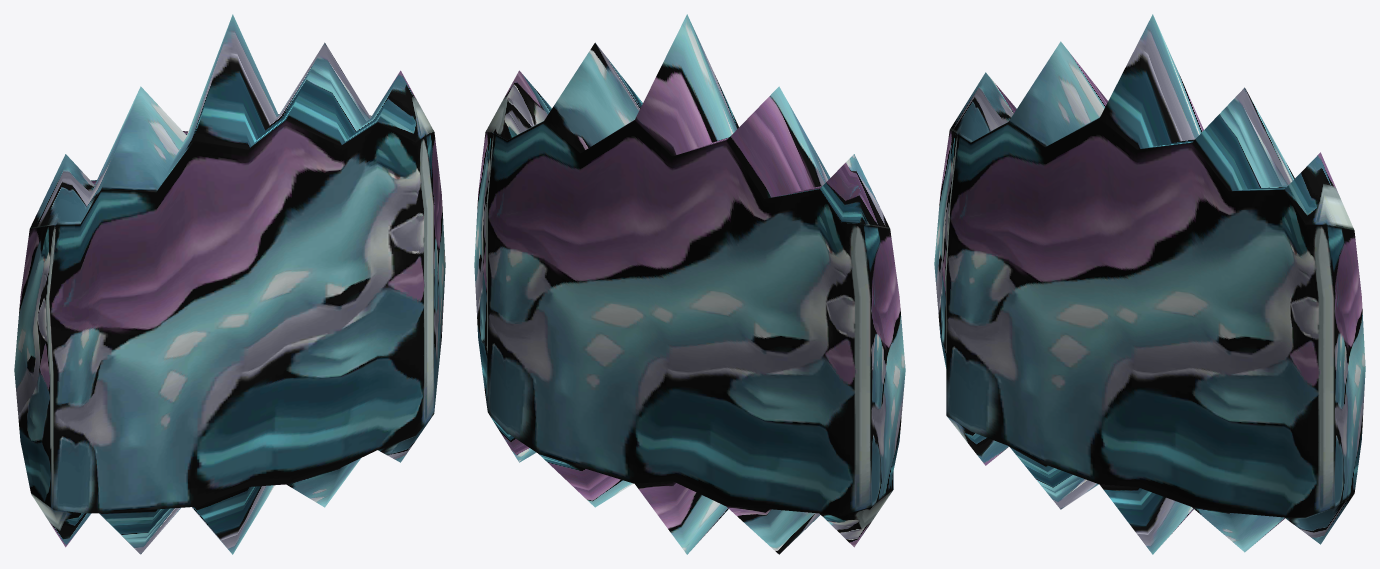
Rendered from 0231_bingqiang_M_shuijun.glb.
3 views of the same model, side by side, from view 1: azimuth 30°, elevation 25°; view 2: azimuth 150°, elevation 25°; view 3: azimuth 330°, elevation 25° (orthographic).
Bounding box in the file's own units: 1.84 × 2.2 × 0.2234.
Materials: 1 (1 with a texture image).
